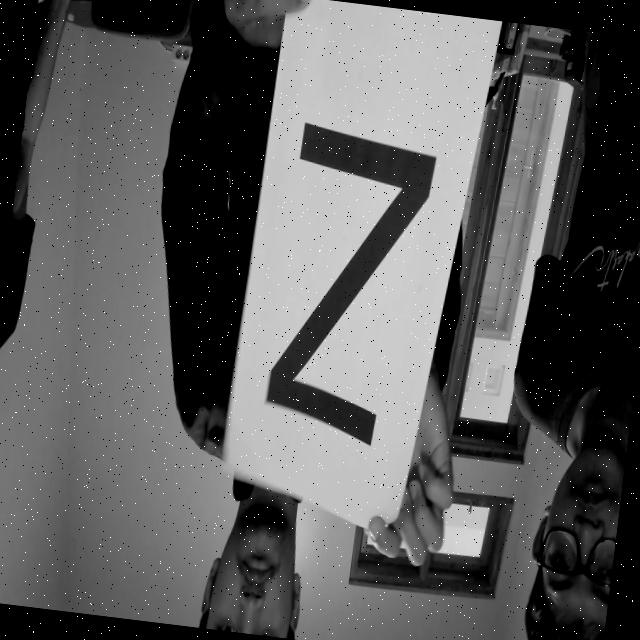z: (246, 100, 449, 467)
